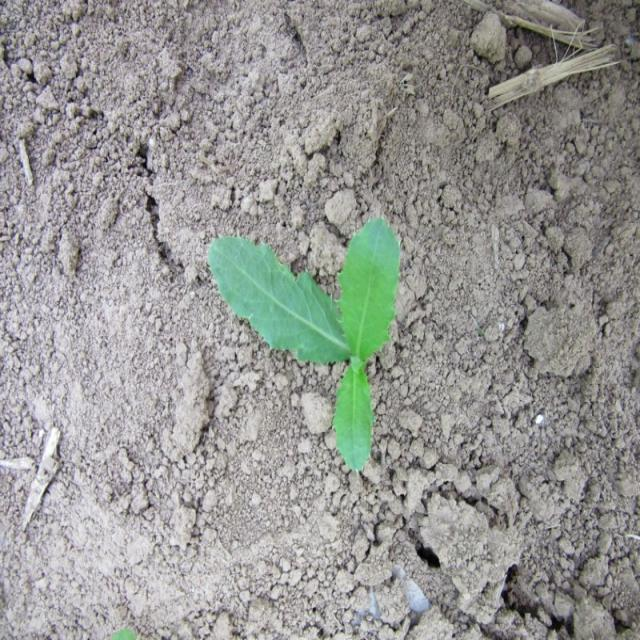field_thistle: (214, 180, 402, 462)
